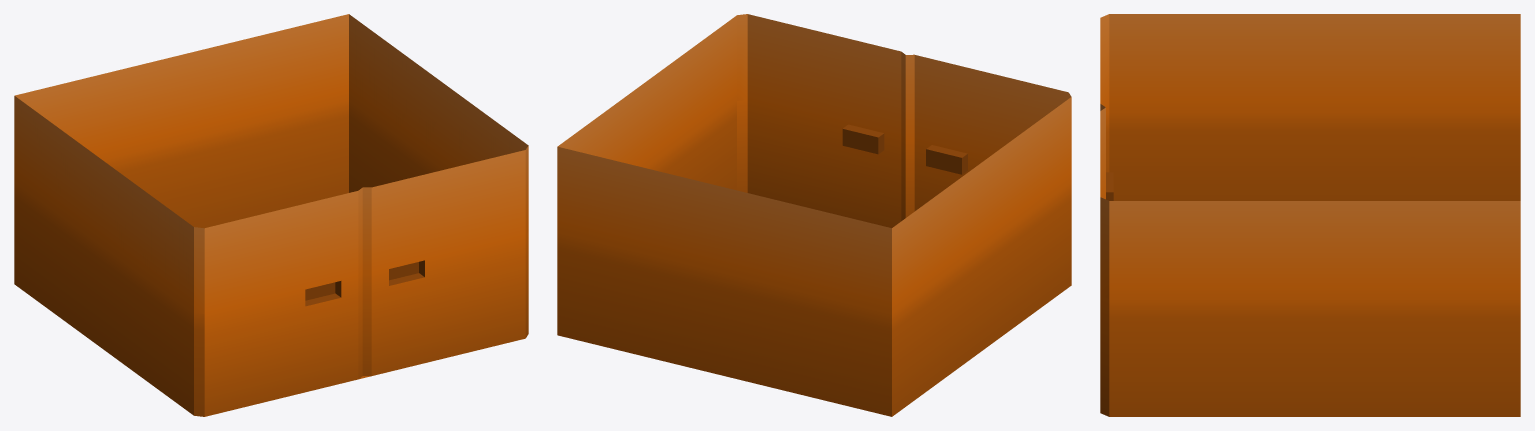
File: Counter_01_v06_C03.fbx
The picture shows the model from 3 angles, left to right: view 1: azimuth 30°, elevation 25°; view 2: azimuth 150°, elevation 25°; view 3: azimuth 270°, elevation 25°; orthographic projection. The views are drawn at different scales.
Parts seen in each view (by area): view 1: Counter_01_v06_C03; view 2: Counter_01_v06_C03; view 3: Counter_01_v06_C03.
Part boxes in pixels (x1,y1,x2,y2): Counter_01_v06_C03: [14, 14, 528, 416]; Counter_01_v06_C03: [557, 14, 1071, 416]; Counter_01_v06_C03: [1100, 14, 1520, 416].
Bounding box in the file's own units: 100 × 53.91 × 94.97.
